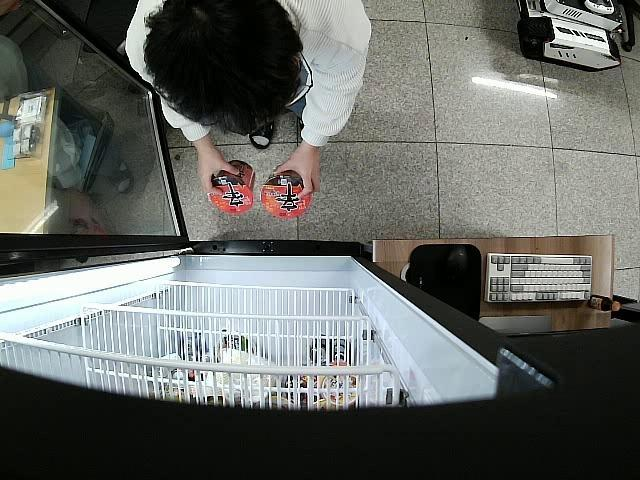01_ShinRamen_L: (260, 170, 314, 220), (207, 160, 256, 214)
